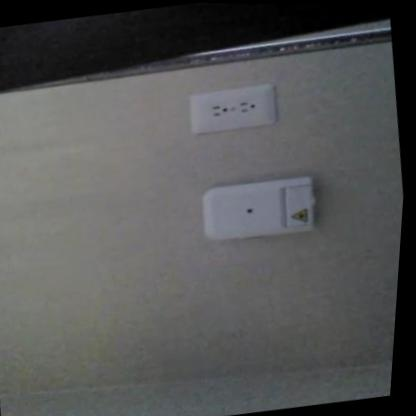OUTLET: (185, 81, 279, 135)
